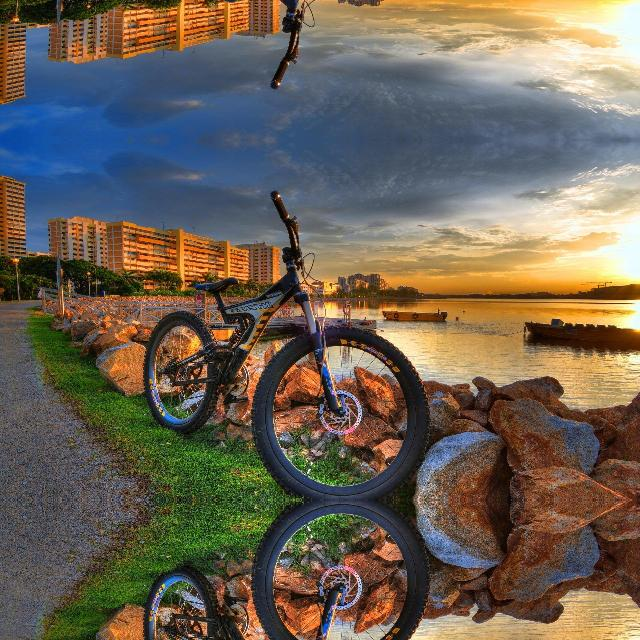obstacle: (136, 182, 444, 500), (136, 500, 444, 640), (136, 0, 444, 97)
